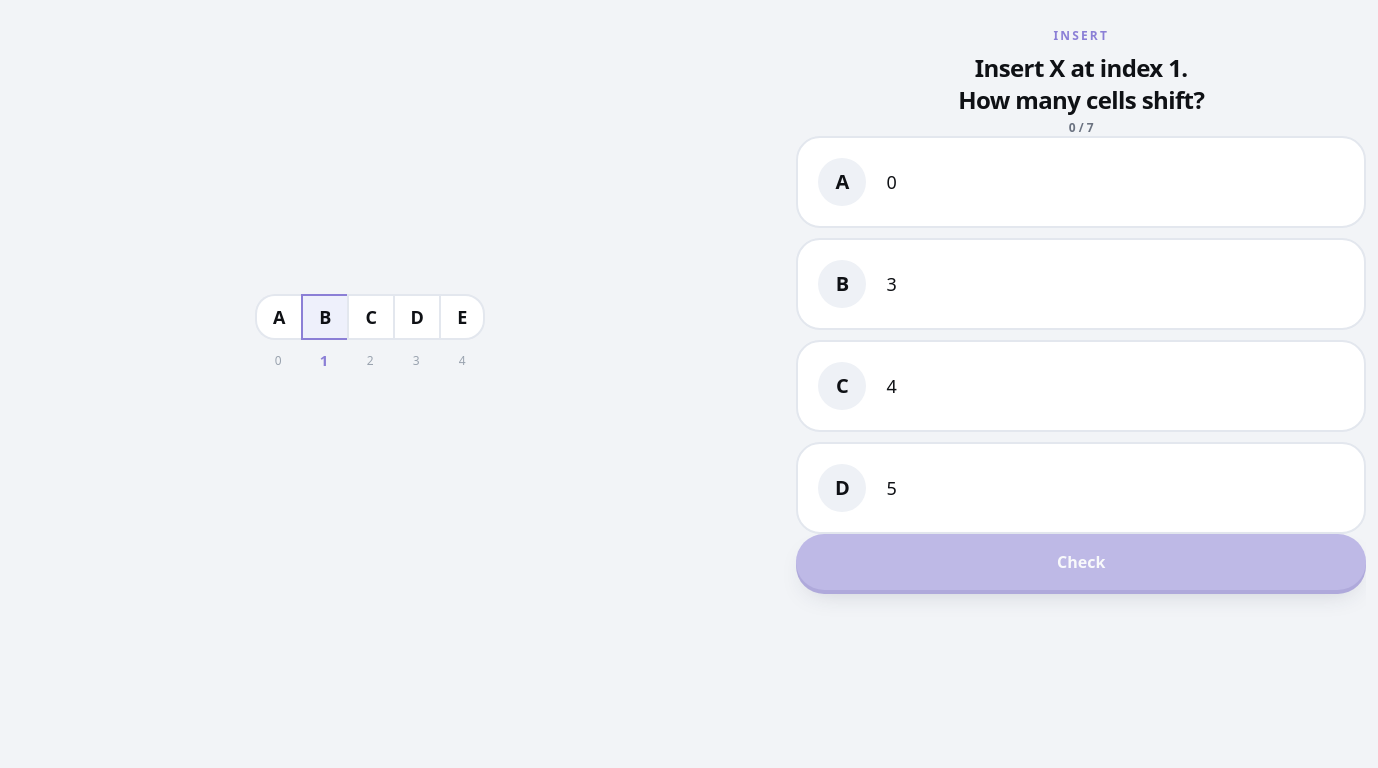
Test: Arrays stage: the graded shift wave plays to the end-state on reveal › insert: the ripple lands on the shifted arrangement and announces the wave
This screenshot has width=1378, height=768.
# answer correctly via the dev-only marker on the winning card
Click the button "C 4". click: {"x": 842, "y": 386}
box: [796, 340, 1366, 432]
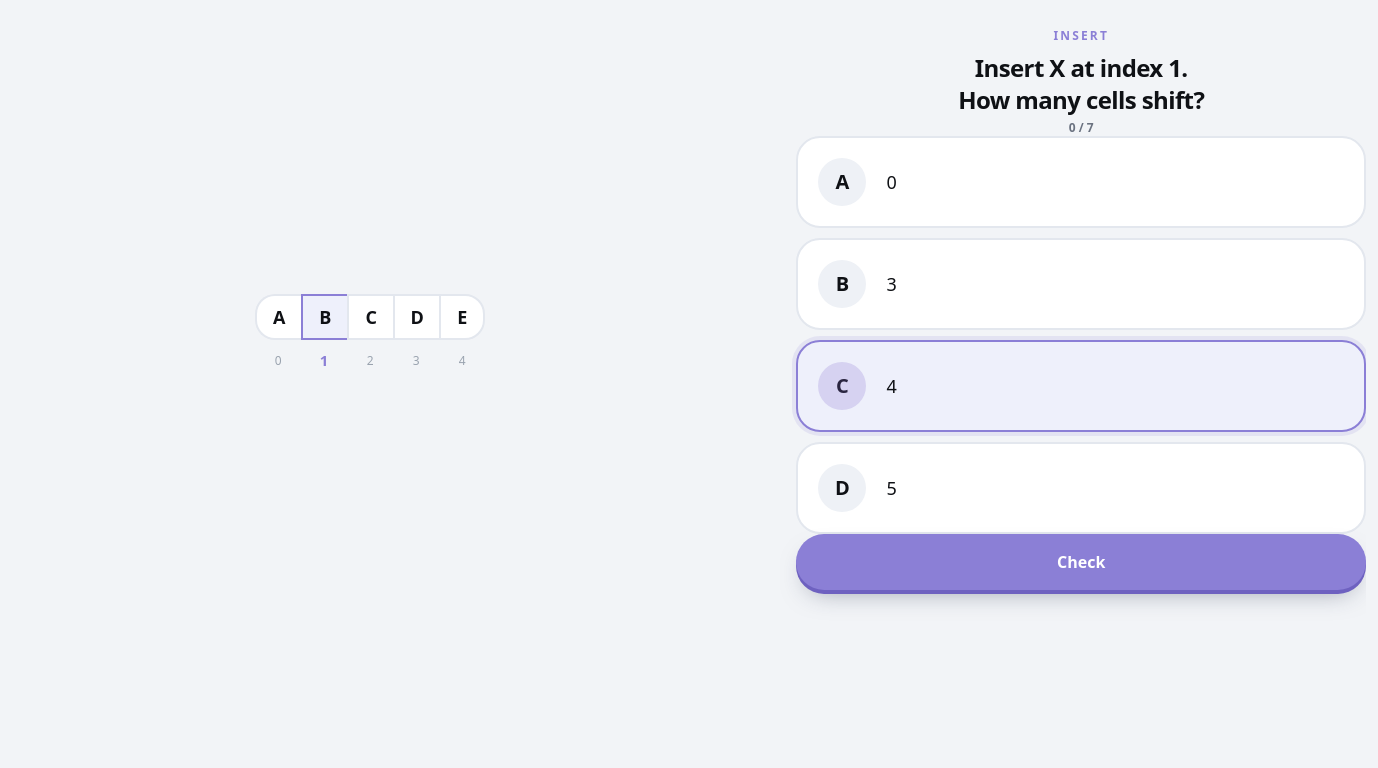
Click the button "Check". click: {"x": 1081, "y": 562}
box: [796, 534, 1366, 590]
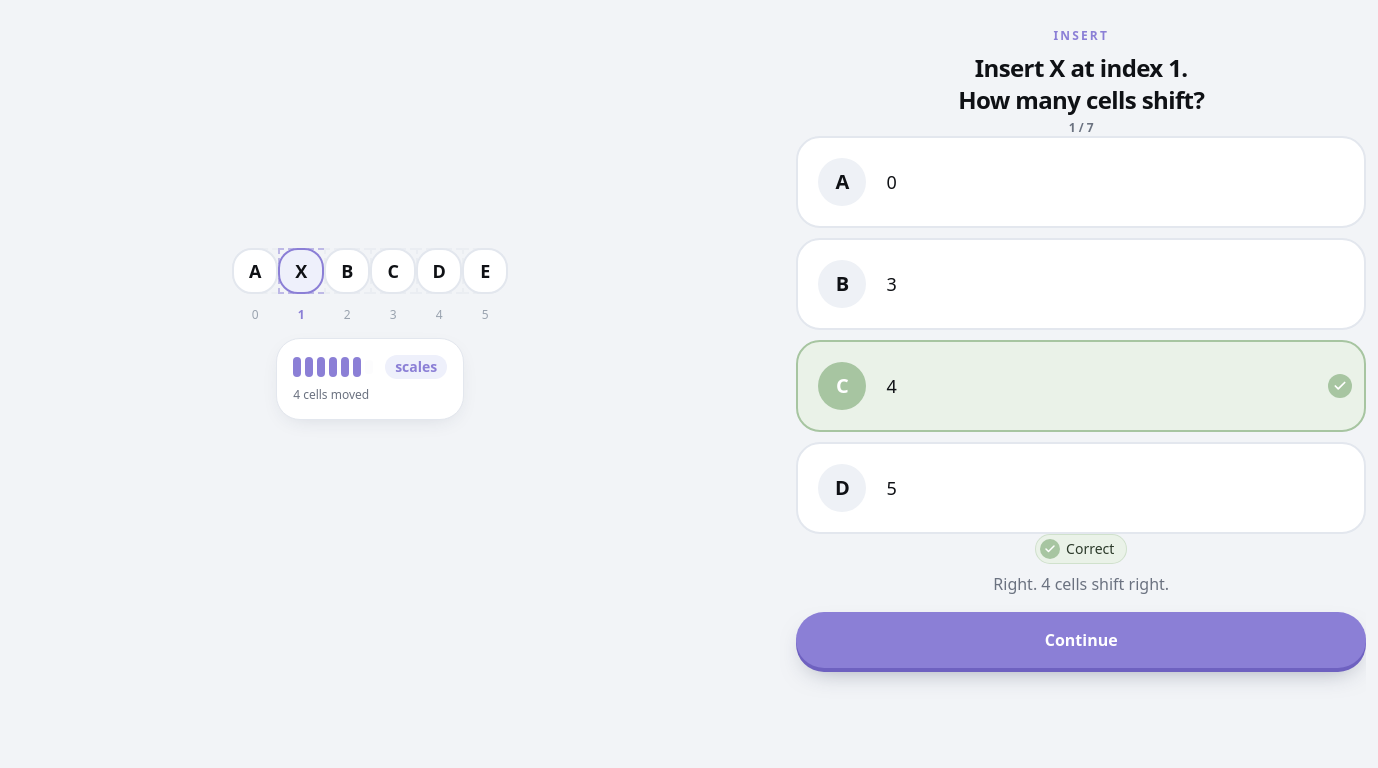
Check: the text "X" is shown, box [278, 248, 324, 294]
